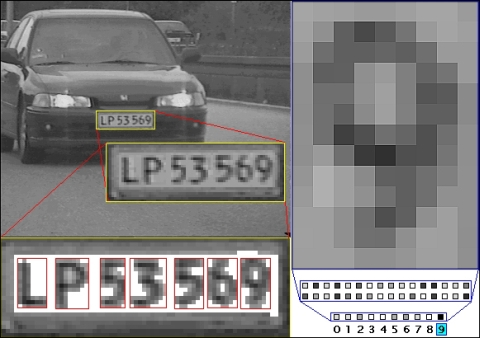license plate: (95, 109, 153, 129)
